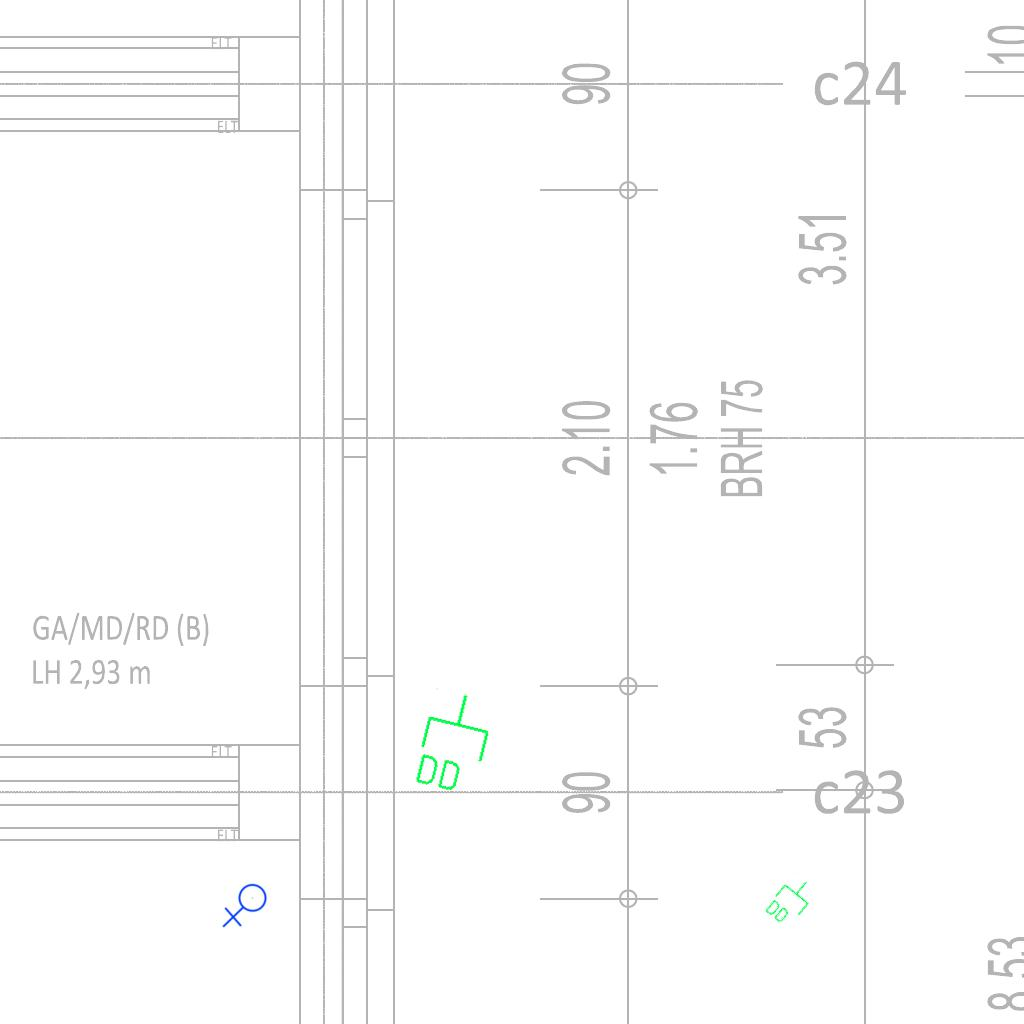Datenanschluss_zweifach: (407, 684, 500, 801), (761, 870, 820, 932)
Elektroanschluss_allgemein_230V_Geraeteanschlussdose_230V: (222, 883, 271, 930)
